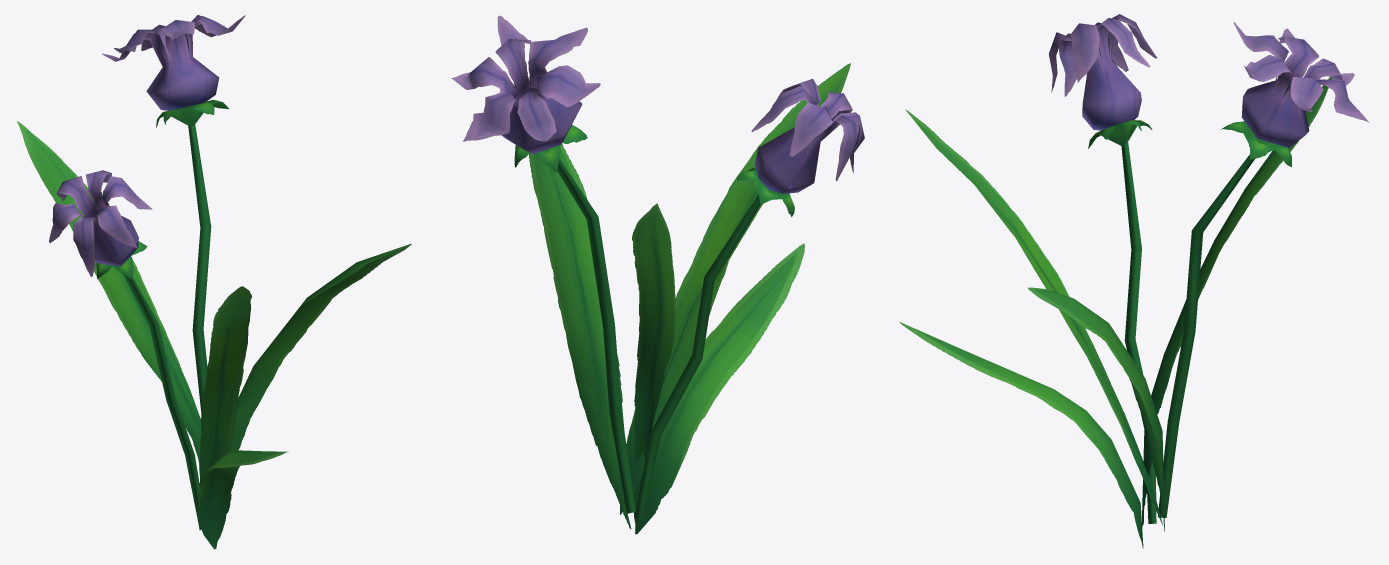
The model's file is MSH_FWOF_Flower_Large_B_04.fbx.
3 renders of one model, left to right at view 1: azimuth 30°, elevation 25°; view 2: azimuth 150°, elevation 25°; view 3: azimuth 270°, elevation 25°, orthographic. The views are drawn at different scales.
Parts seen in each view (by area): view 1: MSH_FWOF_Flower_Large_B_04; view 2: MSH_FWOF_Flower_Large_B_04; view 3: MSH_FWOF_Flower_Large_B_04.
Boxes of the visible parts, x1,y1,x2,y2 form: MSH_FWOF_Flower_Large_B_04: (17,15,411,549); MSH_FWOF_Flower_Large_B_04: (451,15,864,534); MSH_FWOF_Flower_Large_B_04: (899,14,1369,548).
Bounding box in the file's own units: 0.7499 × 1.08 × 0.8772.
